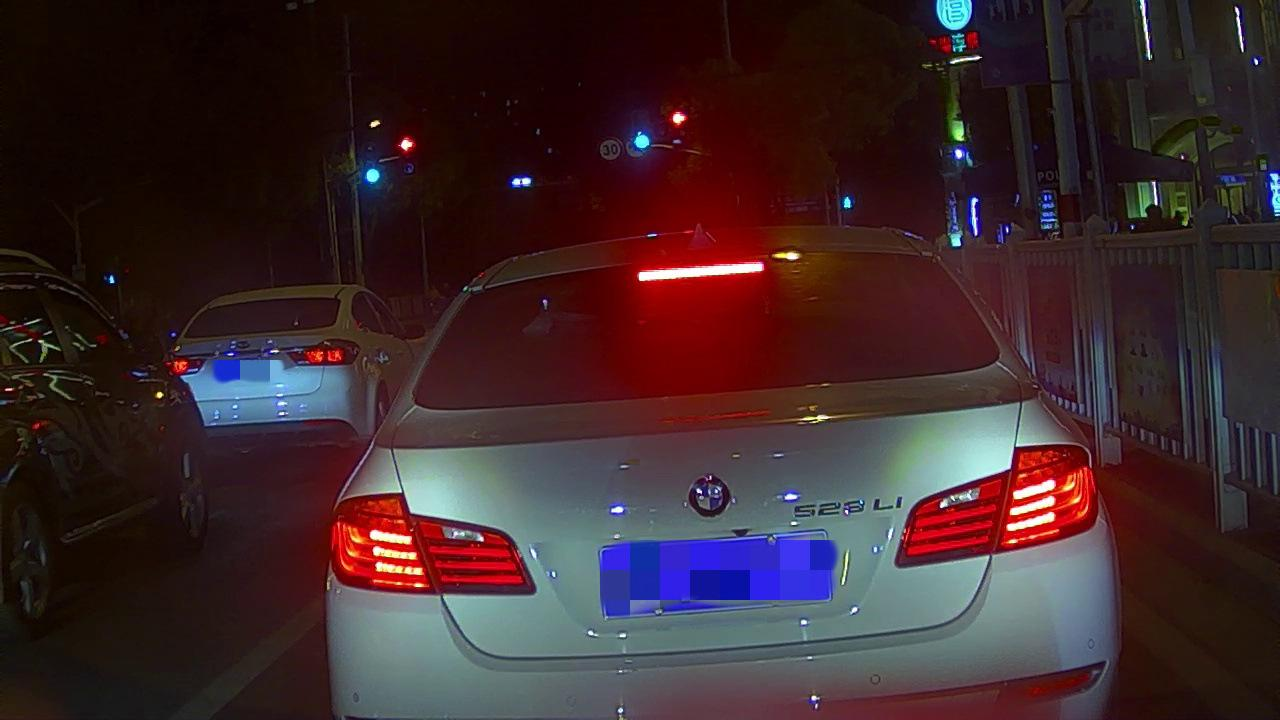traffic_light: (633, 113, 652, 152), (361, 165, 384, 187), (668, 107, 689, 129), (398, 135, 416, 154)
